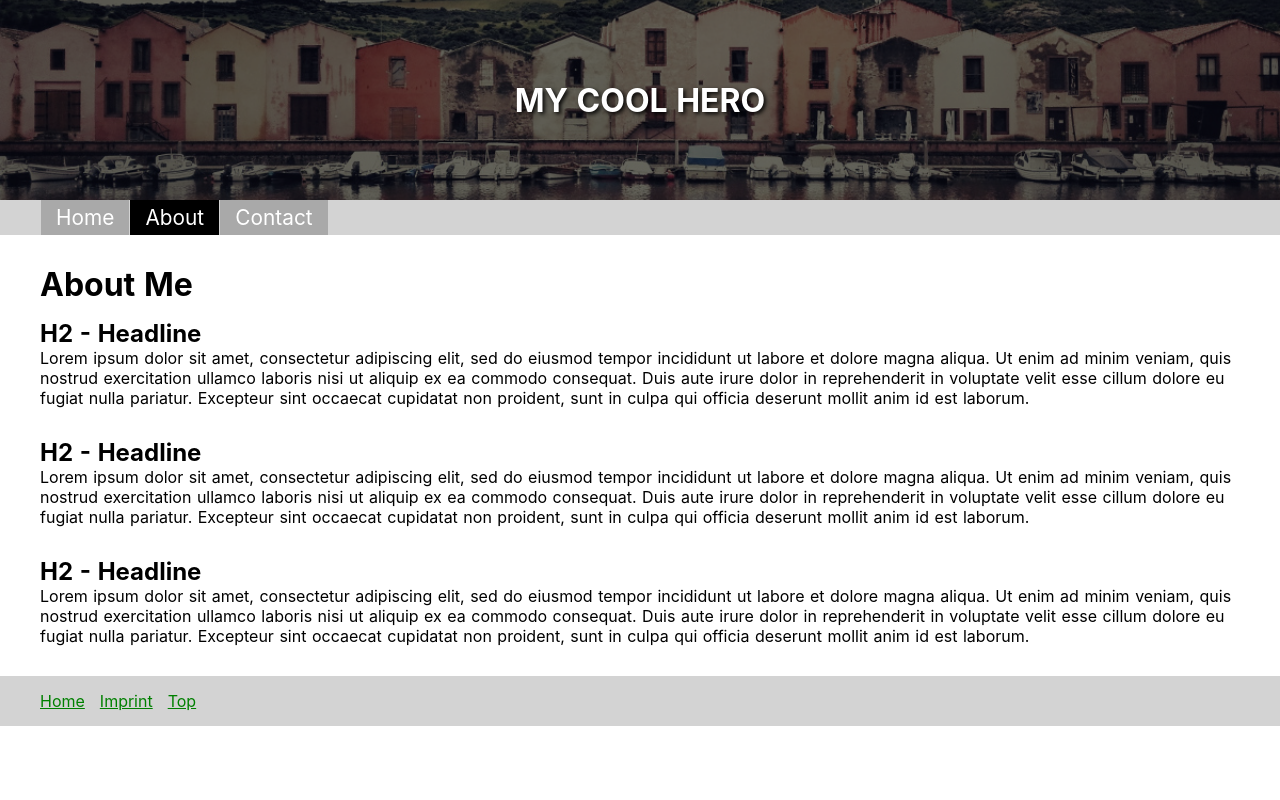
Scenario: Test Page › Click contact page in navig
The width and height of the screenshot is (1280, 800).
Click the link "Contact".
click(274, 218)  # box [220,200,327,235]
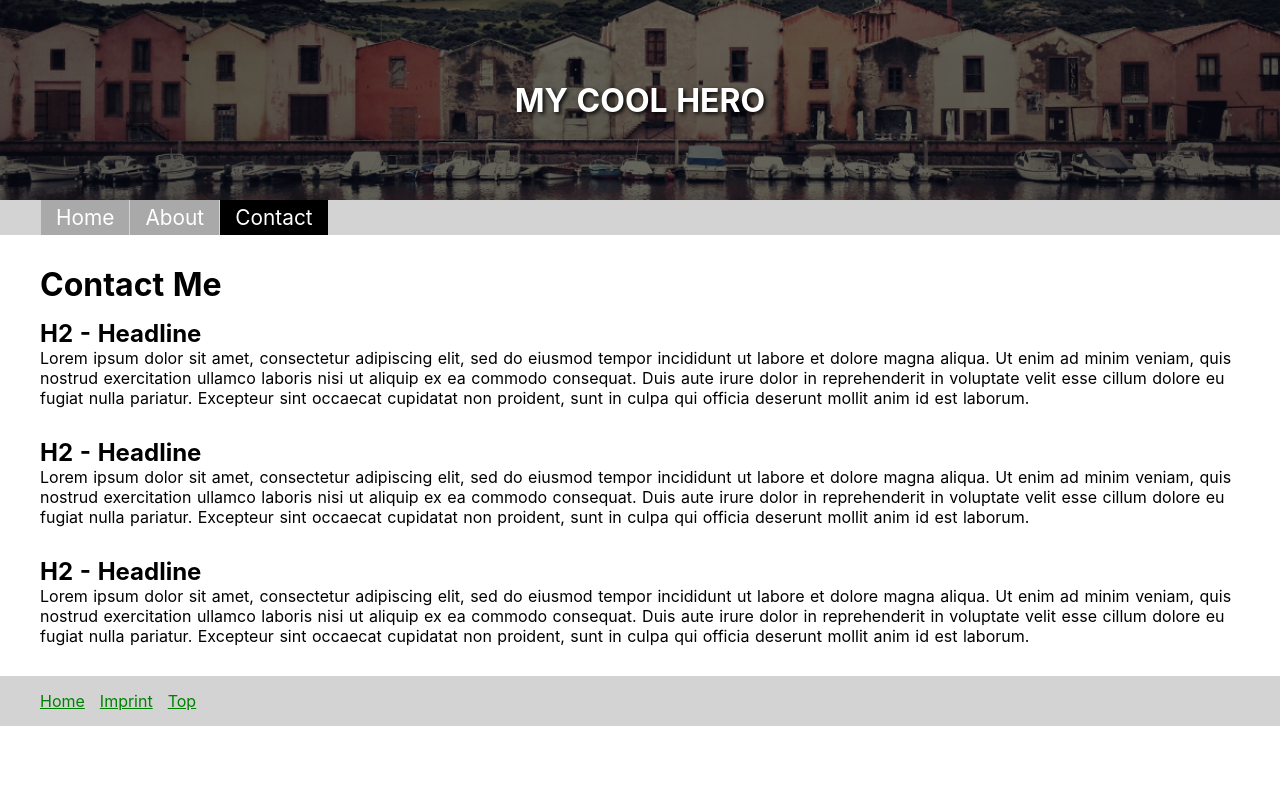
Check: the heading "Contact Me" is shown, box [40,265,222,304]
